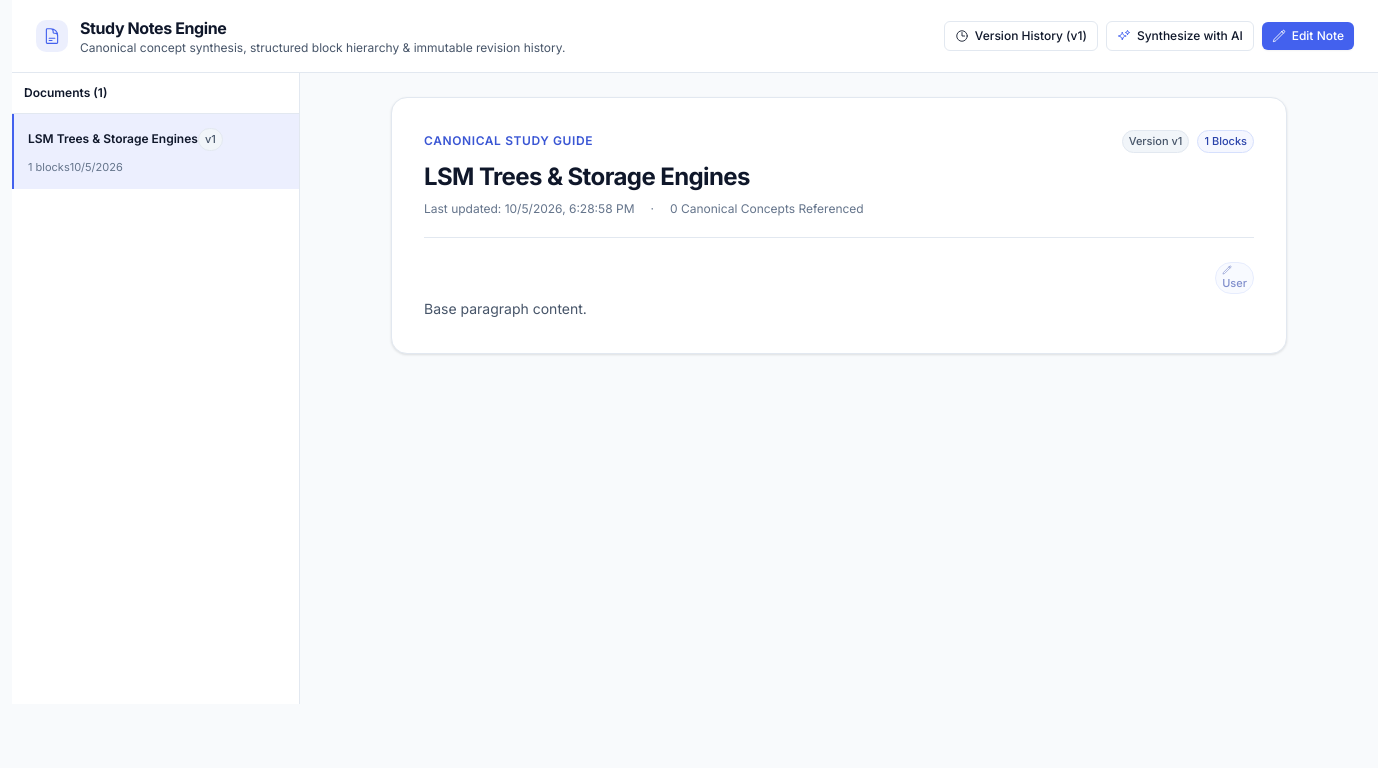
Test: Structured Notes Engine Frontend Workflows (Phase 07) › opens BlockEditor when Edit Note is clicked
Expected: the text "Edit Note" is shown, x1=1292 y1=28 x2=1344 y2=44
Click the button "Edit Note" at point(1308, 36), box x1=1262 y1=22 x2=1354 y2=50
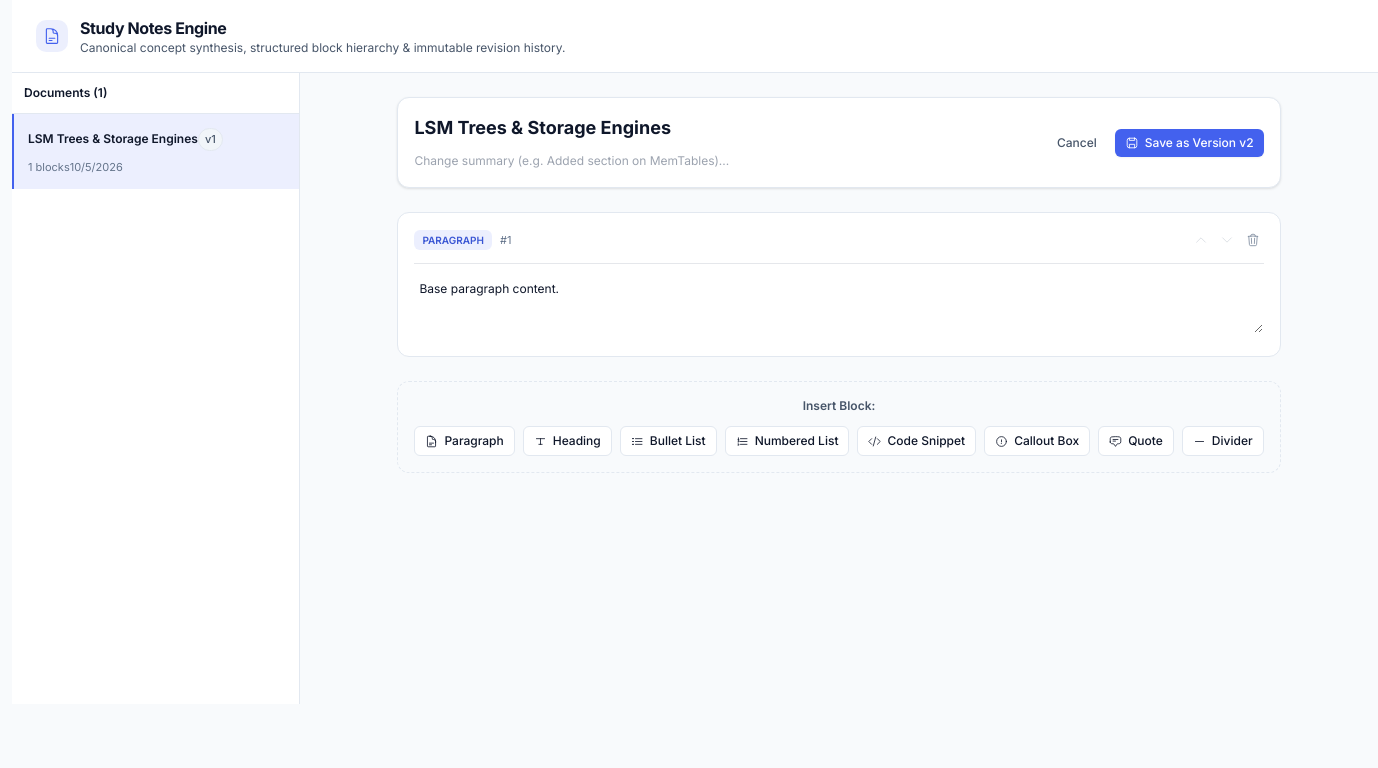
Expected: the field with placeholder "Change summary (e.g. Added section on MemTables)..." is shown, x1=414 y1=153 x2=1031 y2=169
Expected: the text "Save as Version v2" is shown, x1=1145 y1=134 x2=1254 y2=150
